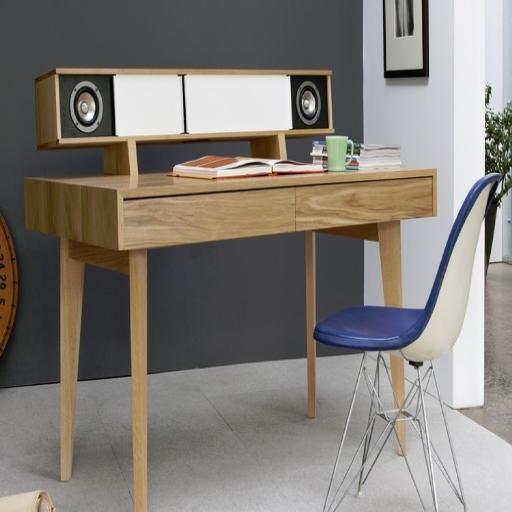chair: (312, 172, 502, 512)
desk: (23, 67, 437, 512)
wall: (0, 0, 364, 389)
